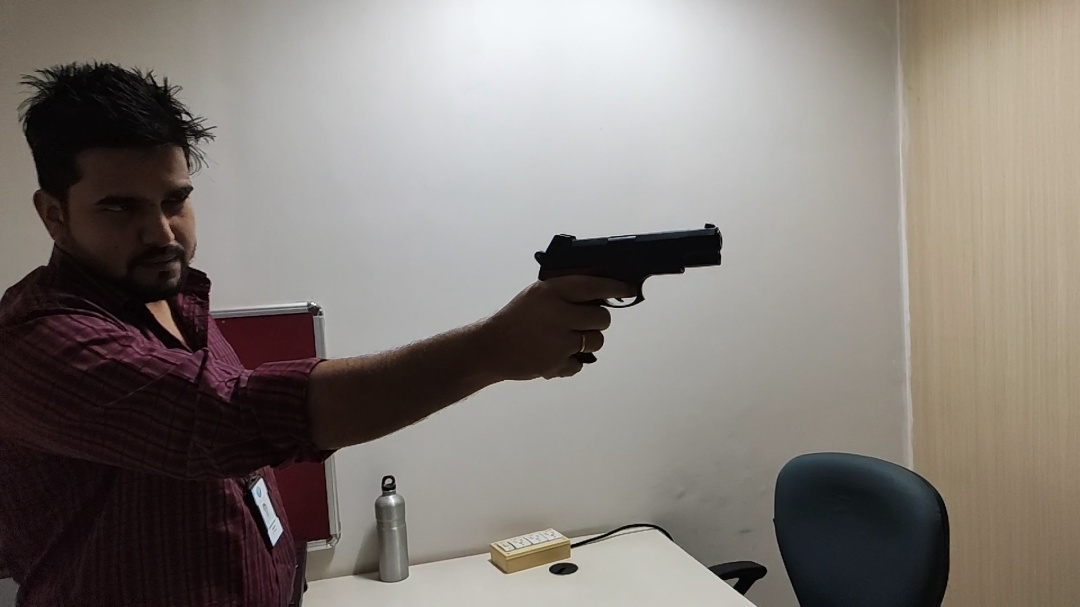gun: (534, 220, 724, 364)
